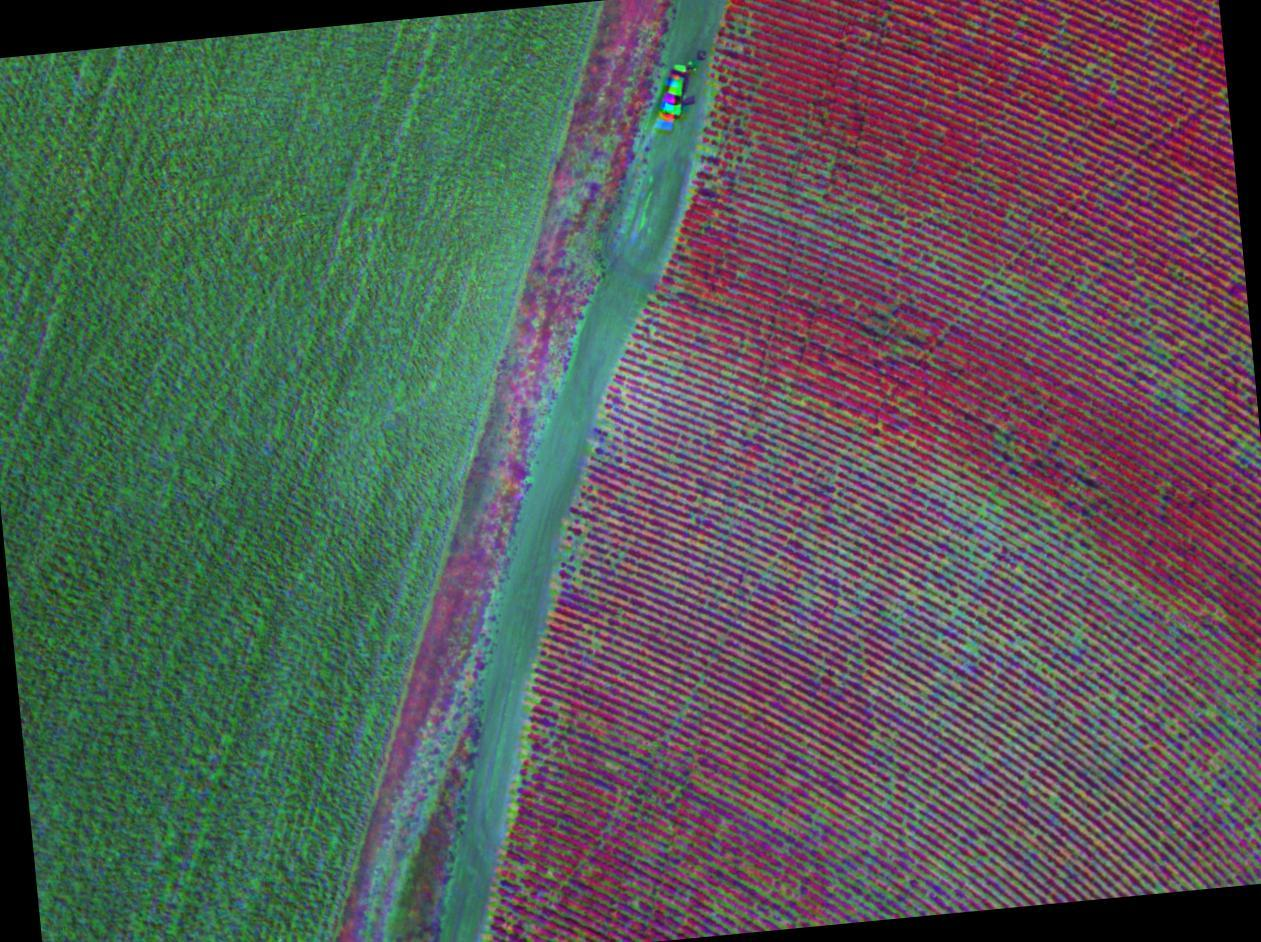dc: (889, 783, 895, 789), (609, 424, 614, 428), (576, 563, 580, 568), (1015, 570, 1020, 574), (1172, 733, 1176, 737)
